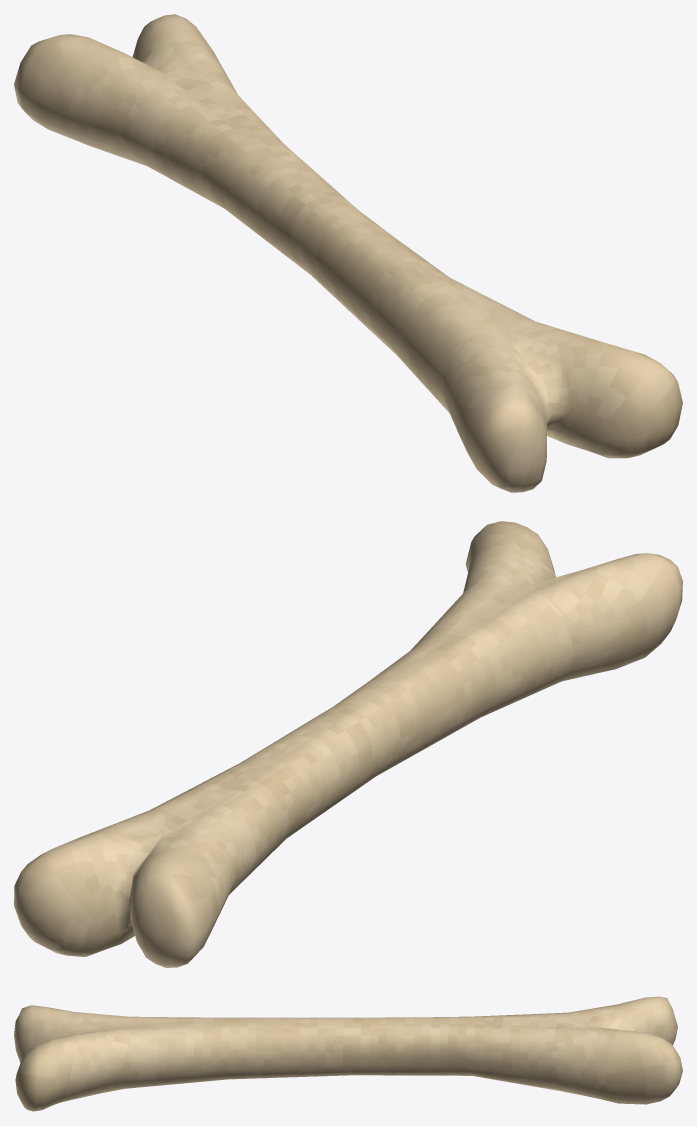
File: Hueso.fbx
3 views of the same model, one above another, from view 1: azimuth 30°, elevation 25°; view 2: azimuth 150°, elevation 25°; view 3: azimuth 270°, elevation 25° (orthographic). The views are drawn at different scales.
Parts seen in each view (by area): view 1: Hueso; view 2: Hueso; view 3: Hueso.
Part boxes in pixels (box(x1,y1,x2,y2)): Hueso: box(14, 14, 682, 492); Hueso: box(14, 521, 682, 967); Hueso: box(14, 996, 682, 1111).
Size of the model in its own units: 323 by 187 by 1359.
Materials: 1 (1 with a texture image).
